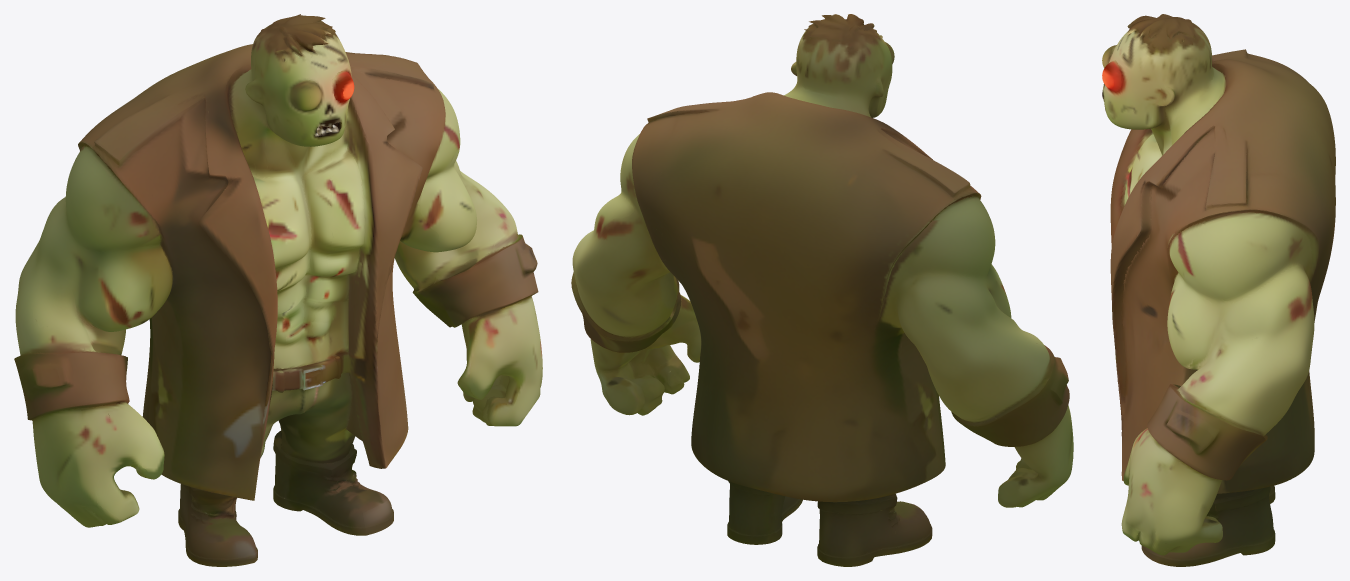
Rendered from base_basic_shaded.fbx.
3 views of the same model, side by side, from view 1: azimuth 30°, elevation 25°; view 2: azimuth 150°, elevation 25°; view 3: azimuth 270°, elevation 25° (orthographic). The views are drawn at different scales.
Visible parts, largest first — view 1: model; view 2: model; view 3: model.
Part boxes in pixels (x1=…): model: x1=14, y1=14, x2=542, y2=566; model: x1=571, y1=14, x2=1073, y2=566; model: x1=1102, y1=14, x2=1335, y2=566.
Size of the model in its own units: 190 by 186 by 78.76.
